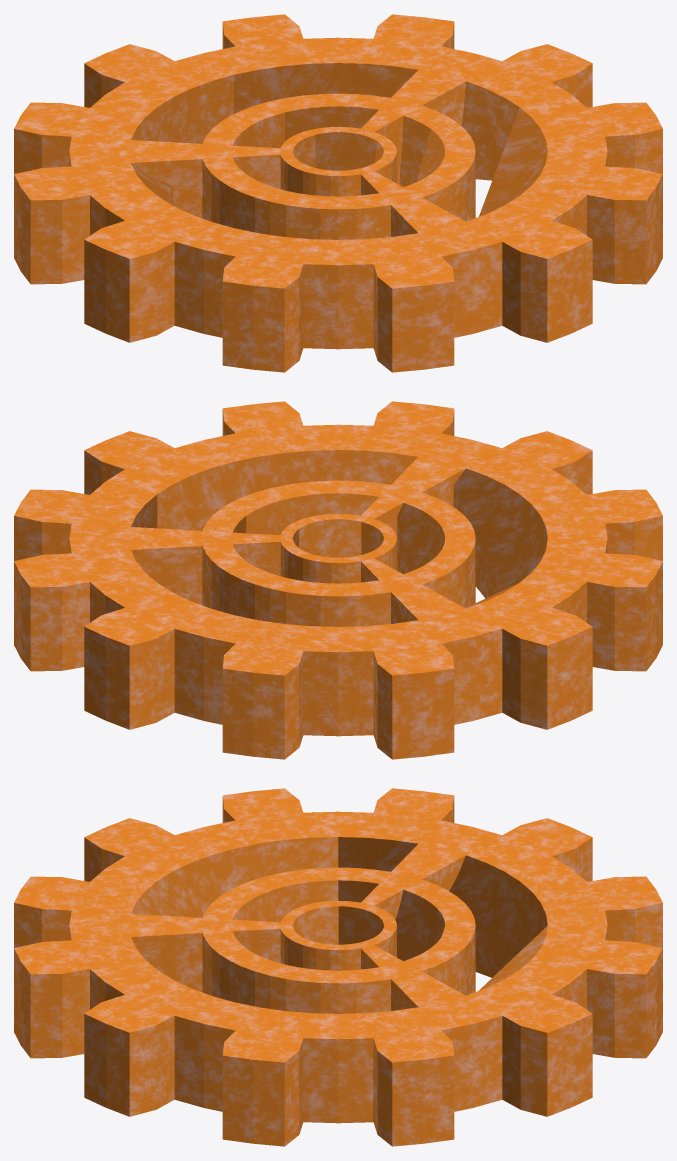
File: cogwheel_large (1).fbx
3 views of the same model, one above another, from view 1: azimuth 30°, elevation 25°; view 2: azimuth 150°, elevation 25°; view 3: azimuth 270°, elevation 25° (orthographic).
Visible parts, largest first — view 1: Gear; view 2: Gear; view 3: Gear.
Part boxes in pixels (box(x1,y1,x2,y2)): Gear: box(14, 14, 662, 372); Gear: box(14, 401, 662, 759); Gear: box(14, 788, 662, 1146).
Size of the model in its own units: 280 by 40 by 280.
1 material, 1 textured.
